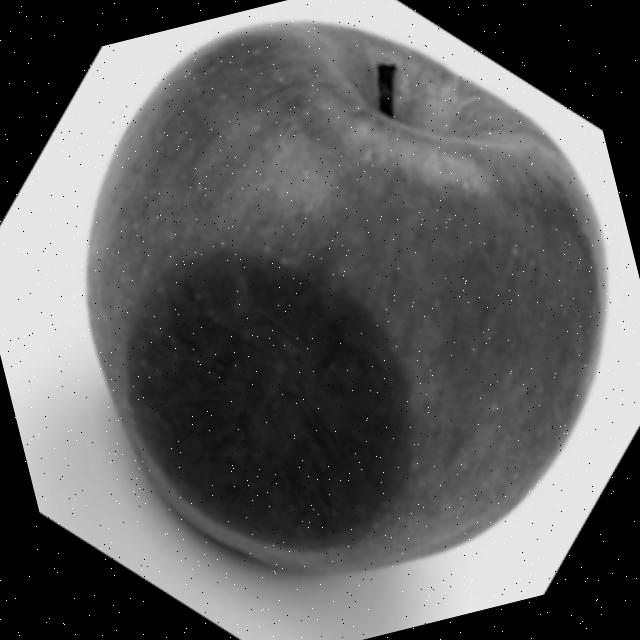Rotten: (19, 0, 640, 631)
